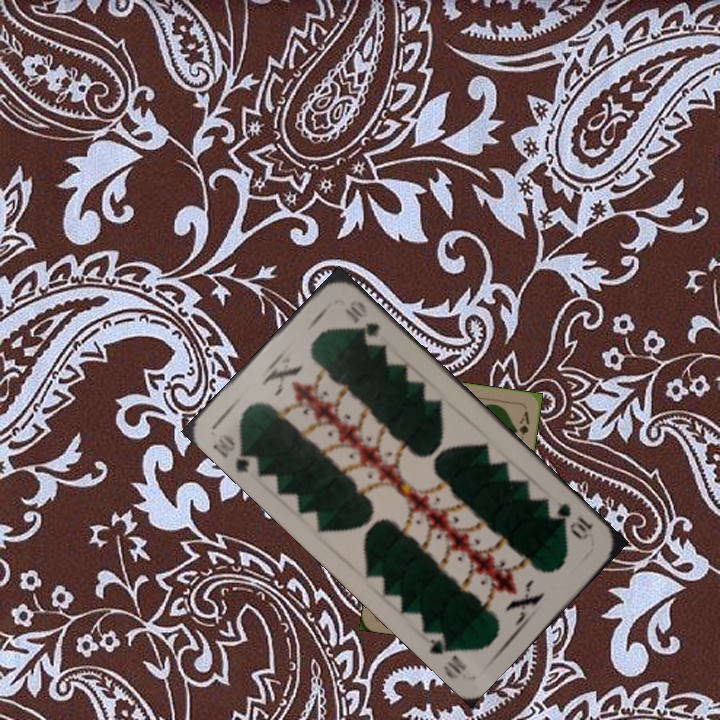G10: (208, 429, 262, 476), (550, 498, 597, 543)
